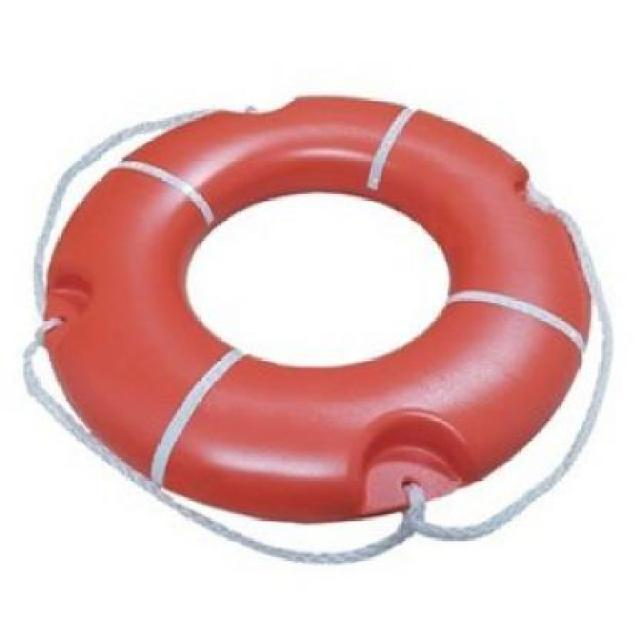a: (16, 76, 628, 558)
